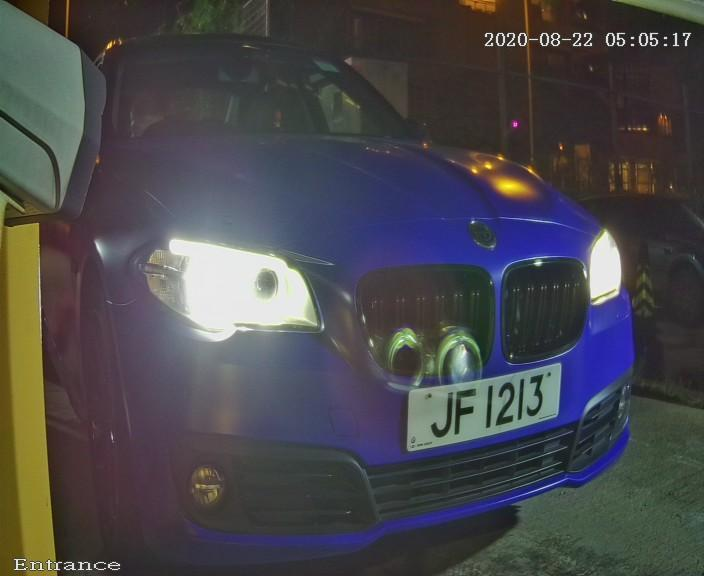Car: (38, 3, 686, 559)
License Plate: (383, 338, 581, 470)
